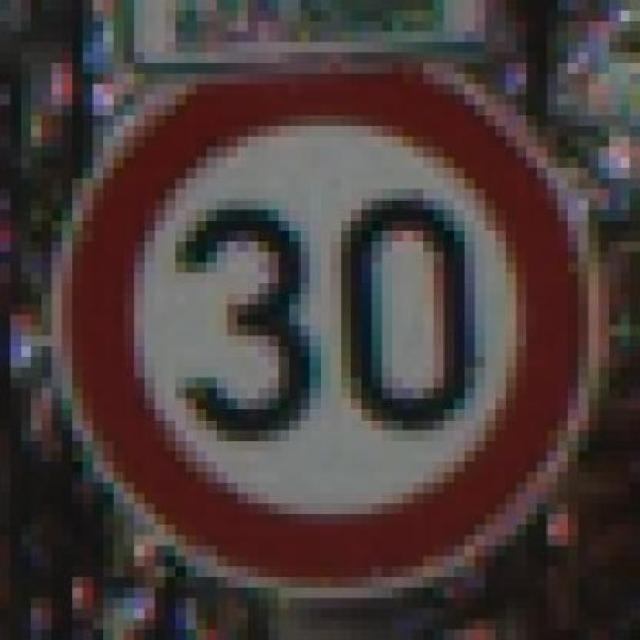Speed Limit 30 KMPh: (21, 63, 630, 599)
